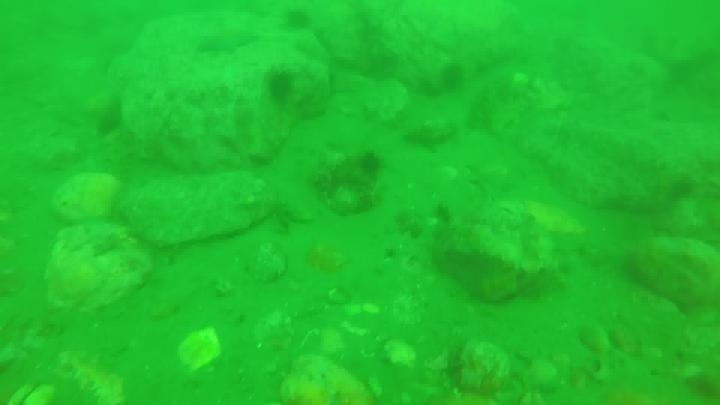echinus: (263, 68, 297, 106), (437, 61, 467, 93), (354, 149, 385, 179), (281, 7, 314, 33)
holothurian: (55, 349, 128, 405)
starfish: (196, 22, 260, 56)
